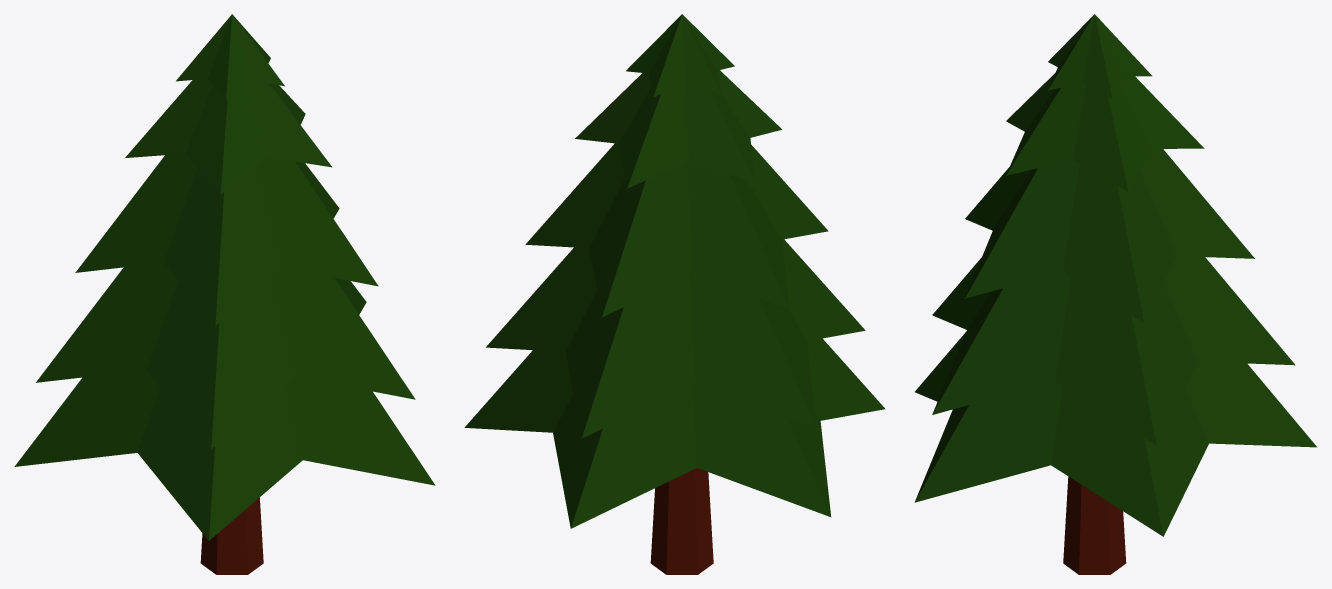
Rendered from Tree.obj.
3 renders of one model, left to right at view 1: azimuth 30°, elevation 25°; view 2: azimuth 150°, elevation 25°; view 3: azimuth 270°, elevation 25°, orthographic.
Parts seen in each view (by area): view 1: 锥体.003, 锥体.004, 锥体.002, 锥体.001, 锥体, 柱体; view 2: 锥体.003, 锥体.004, 锥体.002, 锥体.001, 柱体, 锥体; view 3: 锥体.003, 锥体.004, 锥体.002, 锥体.001, 柱体, 锥体.
Part boxes in pixels (<box>): 锥体.003: <box>36,263,415,449</box>; 锥体.004: <box>14,370,435,540</box>; 锥体.002: <box>75,153,378,325</box>; 锥体.001: <box>125,79,331,194</box>; 锥体: <box>176,14,284,100</box>; 柱体: <box>200,497,263,574</box>; 锥体.003: <box>486,239,865,438</box>; 锥体.004: <box>464,338,885,528</box>; 锥体.002: <box>525,143,828,317</box>; 锥体.001: <box>575,70,781,188</box>; 柱体: <box>650,468,713,574</box>; 锥体: <box>626,14,734,97</box>; 锥体.003: <box>932,256,1295,445</box>; 锥体.004: <box>914,332,1316,536</box>; 锥体.002: <box>965,149,1254,322</box>; 锥体.001: <box>1006,73,1204,192</box>; 柱体: <box>1063,476,1126,574</box>; 锥体: <box>1048,14,1152,99</box>.
Bounding box in the file's own units: 3.86 × 5.52 × 3.67.
